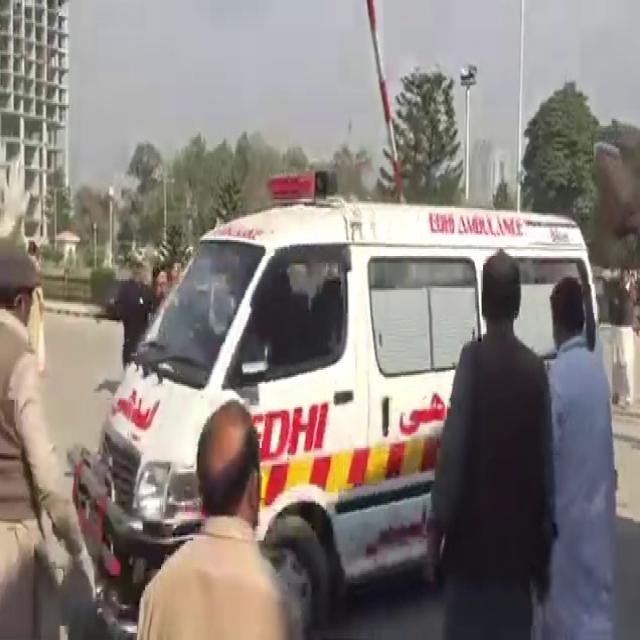ambulance: (123, 180, 605, 559)
